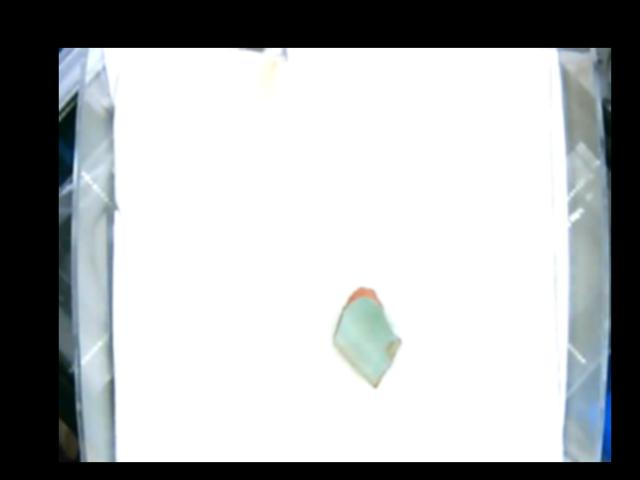China: (330, 286, 401, 387)
